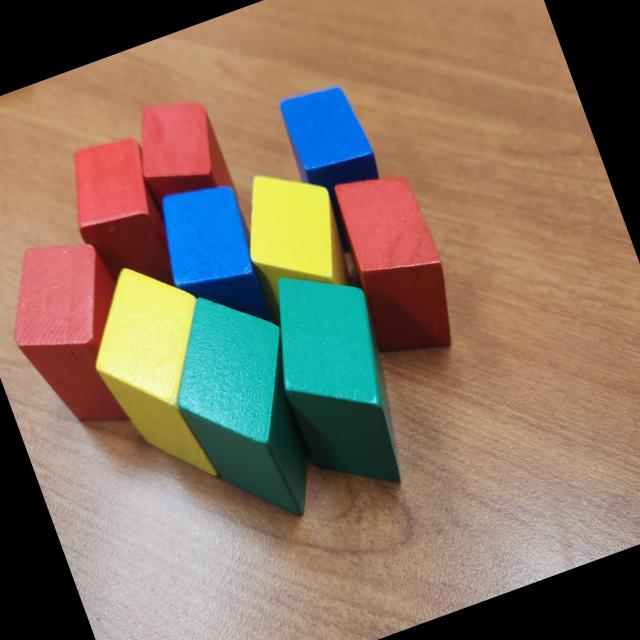blue: (145, 174, 283, 352), (271, 75, 388, 212)
green: (143, 274, 344, 544), (245, 249, 435, 510)
red: (0, 221, 163, 447), (318, 160, 472, 373), (51, 128, 193, 315), (120, 85, 240, 222)
yellow: (68, 247, 258, 500), (224, 153, 365, 324)
